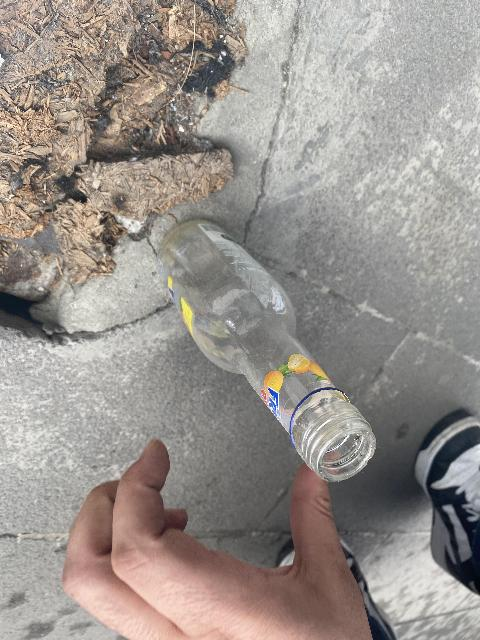Cam: (144, 217, 381, 487)
